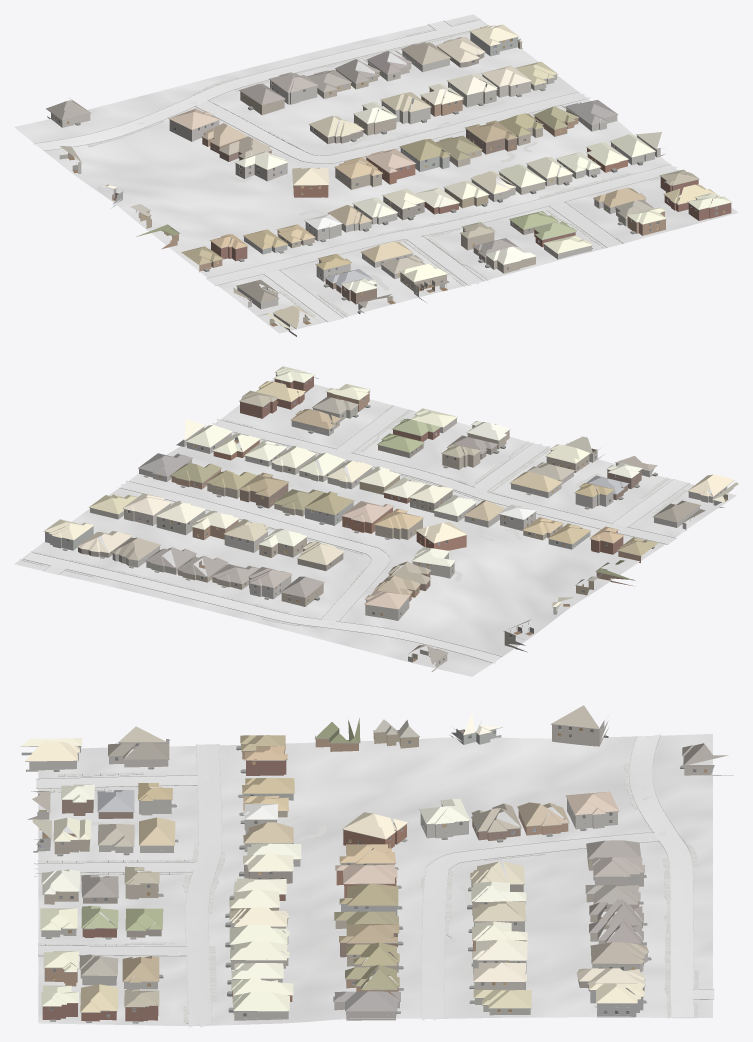
The picture shows the model from 3 angles, top to bottom: view 1: azimuth 30°, elevation 25°; view 2: azimuth 150°, elevation 25°; view 3: azimuth 270°, elevation 25°; orthographic projection. The views are drawn at different scales.
Parts seen in each view (by area): view 1: ground, roof, concrete, wall, wall_stone, wall_stucco, detail, walk, curb, room, glass; view 2: ground, roof, concrete, wall, wall_stone, wall_stucco, detail, curb, walk, glass; view 3: ground, roof, concrete, wall, wall_stone, wall_stucco, detail, walk, curb, glass.
Boxes of the visible parts, x1,y1,x2,y2 form: ground: (14, 14, 738, 333); roof: (46, 24, 731, 330); concrete: (33, 20, 679, 322); wall: (140, 41, 731, 304); wall_stone: (169, 50, 666, 336); wall_stucco: (47, 32, 627, 273); detail: (46, 27, 731, 329); walk: (87, 18, 660, 317); curb: (33, 20, 670, 321); room: (68, 39, 724, 326); glass: (54, 44, 717, 325); ground: (14, 378, 736, 676); roof: (44, 366, 738, 664); concrete: (24, 405, 688, 663); wall: (60, 372, 641, 606); wall_stone: (112, 415, 733, 620); wall_stucco: (45, 406, 724, 671); detail: (43, 372, 734, 665); curb: (22, 405, 689, 662); walk: (19, 405, 687, 646); glass: (66, 378, 725, 663); ground: (38, 734, 712, 1025); roof: (21, 705, 728, 1012); concrete: (34, 734, 714, 1027); wall: (42, 730, 644, 1021); wall_stone: (26, 739, 647, 1020); wall_stucco: (21, 720, 733, 1017); detail: (21, 722, 714, 1023); walk: (37, 763, 698, 1023); curb: (34, 735, 713, 1025); glass: (40, 725, 696, 1016).
Size of the model in its own units: 269 by 17.91 by 269.
